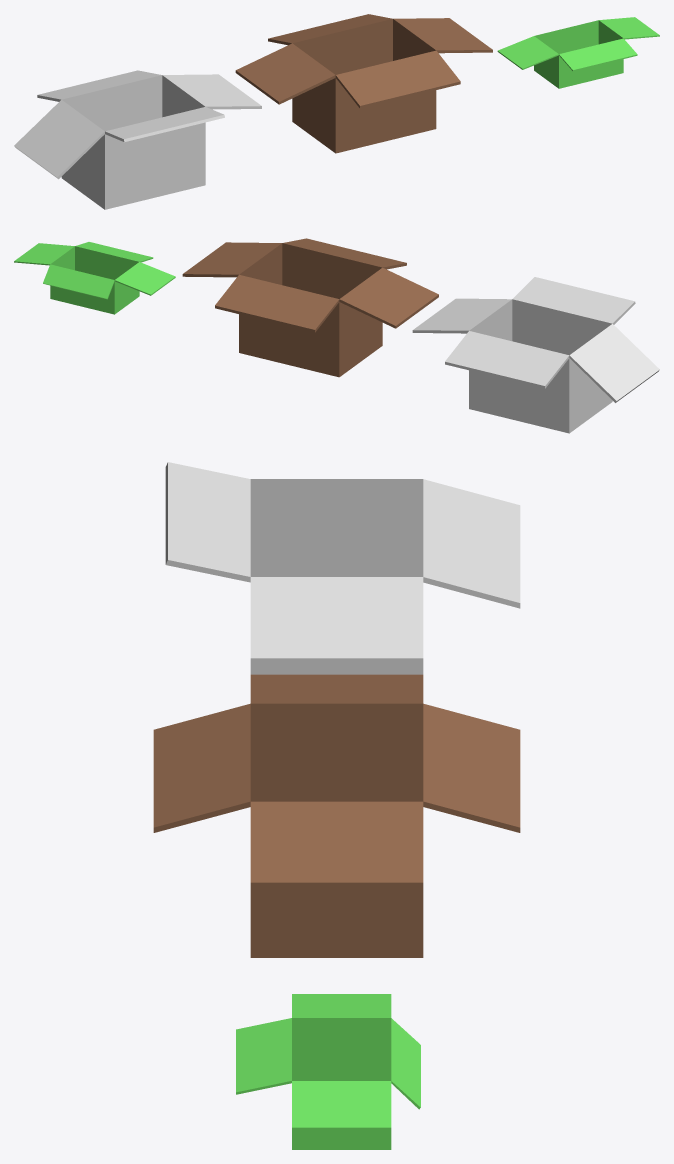
The model's file is Boxes1.fbx.
The picture shows the model from 3 angles, top to bottom: view 1: azimuth 30°, elevation 25°; view 2: azimuth 150°, elevation 25°; view 3: azimuth 270°, elevation 25°; orthographic projection. The views are drawn at different scales.
Parts seen in each view (by area): view 1: Cube, Cube.001, Cube.002; view 2: Cube.001, Cube, Cube.002; view 3: Cube, Cube.001, Cube.002.
Part boxes in pixels (x1,y1,x2,y2): Cube: [235, 14, 492, 153]; Cube.001: [14, 70, 261, 209]; Cube.002: [497, 17, 659, 88]; Cube.001: [412, 277, 659, 433]; Cube: [182, 238, 438, 377]; Cube.002: [14, 242, 175, 314]; Cube: [153, 674, 520, 957]; Cube.001: [165, 462, 520, 674]; Cube.002: [236, 994, 420, 1149].
Bounding box in the file's own units: 4.97 × 0.6679 × 1.29.
